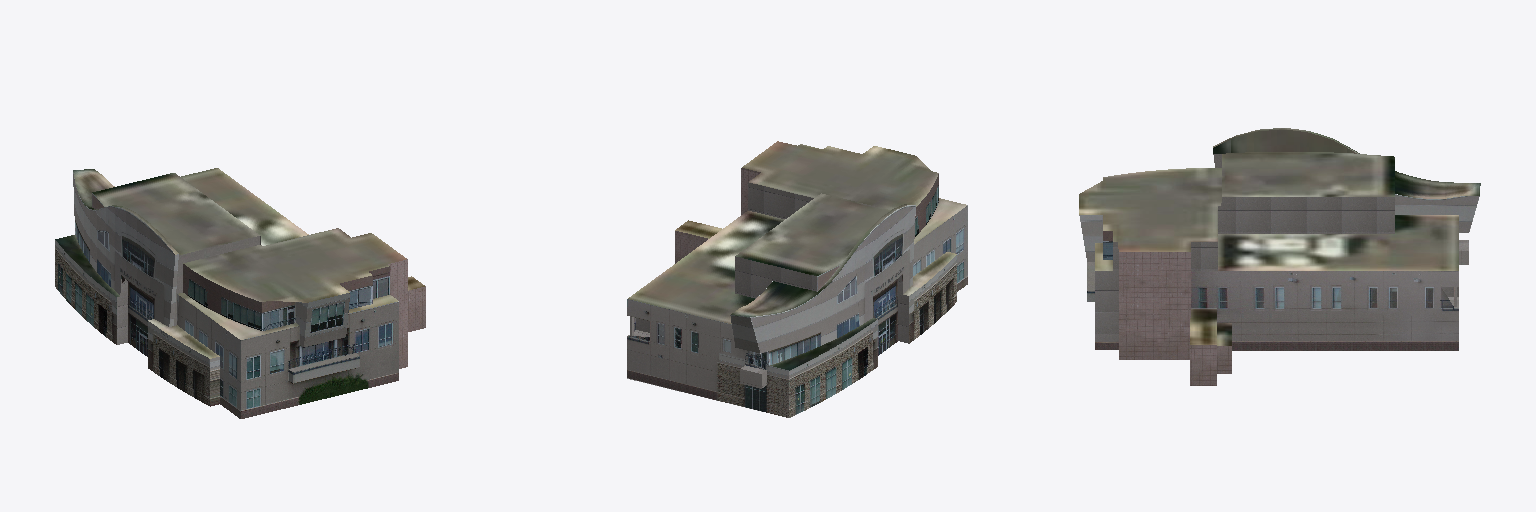
3 views of the same model, side by side, from view 1: azimuth 30°, elevation 25°; view 2: azimuth 150°, elevation 25°; view 3: azimuth 270°, elevation 25° (orthographic).
Parts seen in each view (by area): view 1: Mesh1 Model; view 2: Mesh1 Model; view 3: Mesh1 Model.
Boxes of the visible parts, x1,y1,x2,y2 form: Mesh1 Model: [55, 168, 425, 418]; Mesh1 Model: [627, 141, 967, 417]; Mesh1 Model: [1079, 128, 1480, 385].
Size of the model in its own units: 1301 by 694 by 1814.
Materials: 20 (19 with a texture image).